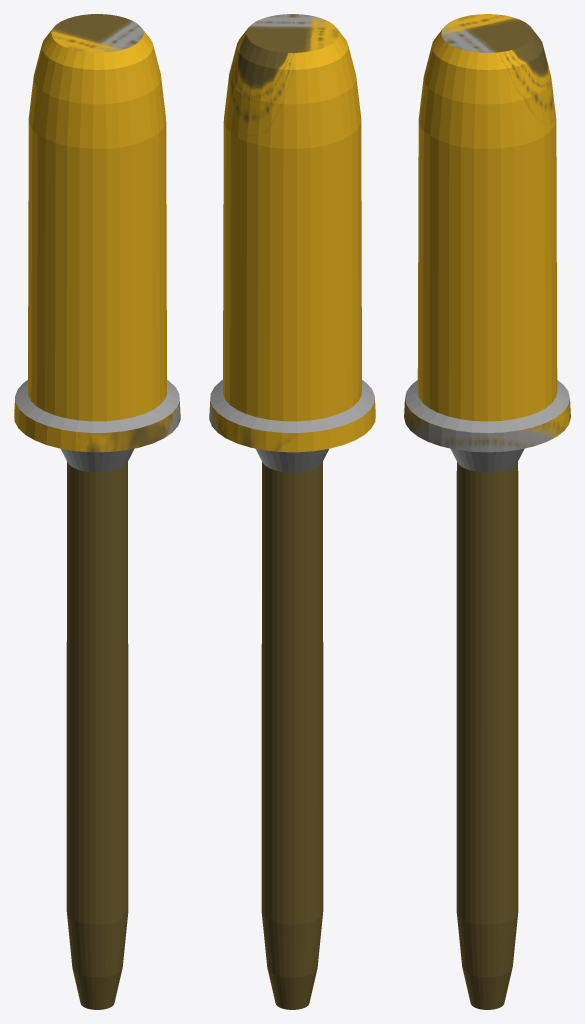
File: blockLever.obj
3 views of the same model, side by side, from view 1: azimuth 30°, elevation 25°; view 2: azimuth 150°, elevation 25°; view 3: azimuth 270°, elevation 25° (orthographic).
Visible parts, largest first — view 1: blockLeverMain; view 2: blockLeverMain; view 3: blockLeverMain.
Part boxes in pixels (bbox=[...]): blockLeverMain: bbox=[14, 14, 180, 1009]; blockLeverMain: bbox=[209, 14, 375, 1009]; blockLeverMain: bbox=[404, 14, 570, 1009].
Size of the model in its own units: 0.2179 by 1.4 by 0.2179.
Materials: 1 (1 with a texture image).
